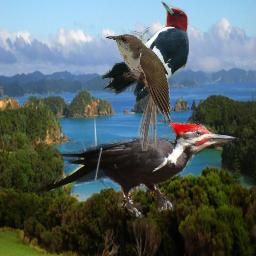Cuckoo: (105, 33, 170, 151)
Woodpecker: (35, 121, 239, 220), (100, 1, 189, 102)
